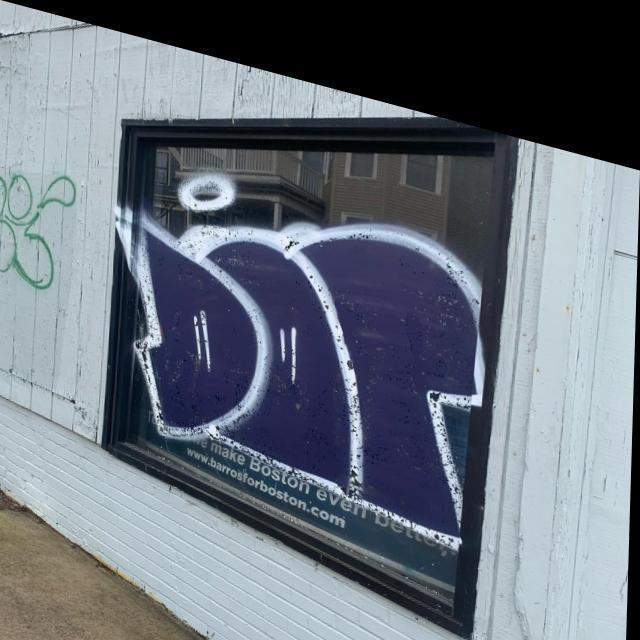nonspitting: (117, 178, 489, 551), (0, 173, 79, 292)
